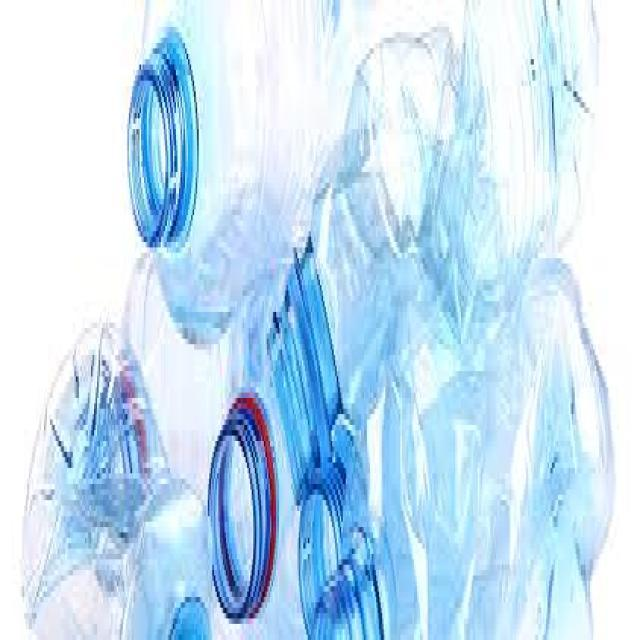Plastic: (108, 2, 310, 336), (16, 329, 210, 640)
